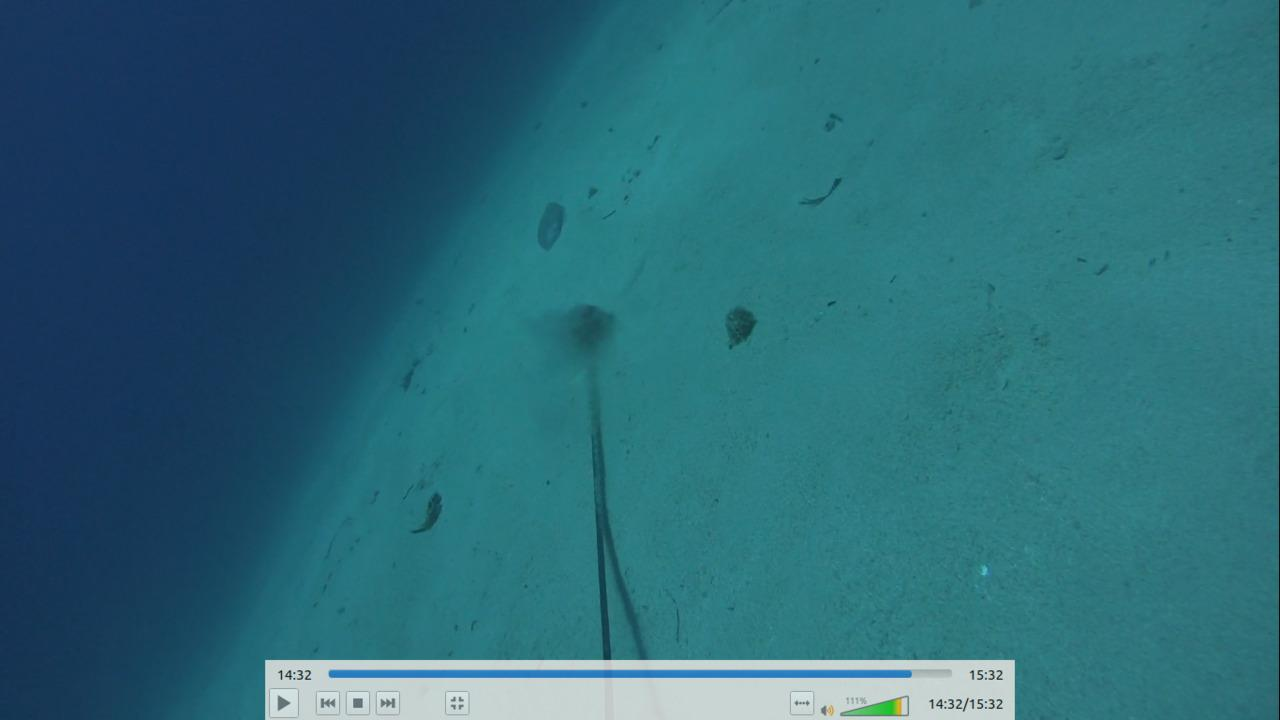raor: (526, 195, 573, 246)
